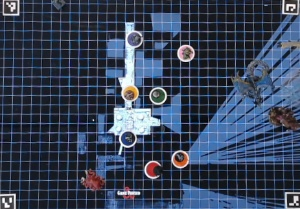blue: (116, 130, 139, 148)
green: (147, 84, 170, 107)
orange: (170, 149, 190, 169)
pink: (175, 43, 199, 63)
red: (142, 159, 164, 178)
violet: (126, 30, 145, 47)
yellow: (122, 85, 140, 103)
